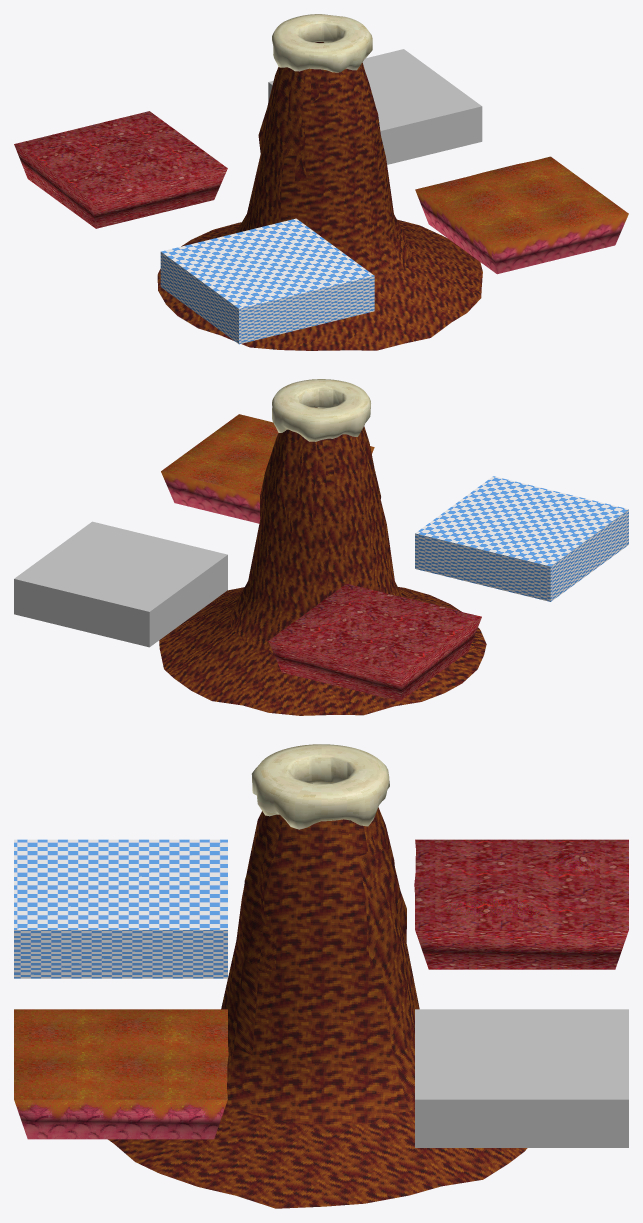
The model's file is map.fbx.
3 views of the same model, one above another, from view 1: azimuth 30°, elevation 25°; view 2: azimuth 150°, elevation 25°; view 3: azimuth 270°, elevation 25° (orthographic). The views are drawn at different scales.
Visible parts, largest first — view 1: Volcano, Cobblestone, Grass, Flesh, Concrete, Froth; view 2: Volcano, Concrete, Cobblestone, Flesh, Grass, Froth; view 3: Volcano, Cobblestone, Concrete, Flesh, Grass, Froth.
Boxes of the visible parts, bbox=[...] form: Volcano: bbox=[157, 42, 482, 350]; Cobblestone: bbox=[160, 218, 374, 344]; Grass: bbox=[415, 156, 628, 274]; Flesh: bbox=[14, 111, 227, 228]; Concrete: bbox=[268, 49, 482, 164]; Froth: bbox=[272, 14, 372, 72]; Volcano: bbox=[159, 407, 486, 715]; Concrete: bbox=[14, 521, 227, 647]; Cobblestone: bbox=[415, 476, 628, 601]; Flesh: bbox=[268, 583, 481, 701]; Grass: bbox=[161, 414, 374, 523]; Froth: bbox=[272, 379, 370, 441]; Volcano: bbox=[108, 807, 527, 1208]; Cobblestone: bbox=[14, 839, 227, 978]; Concrete: bbox=[415, 1009, 628, 1147]; Flesh: bbox=[414, 839, 628, 969]; Grass: bbox=[14, 1009, 228, 1139]; Froth: bbox=[251, 744, 389, 829].
Bounding box in the file's own units: 46000 × 28555 × 46000.
